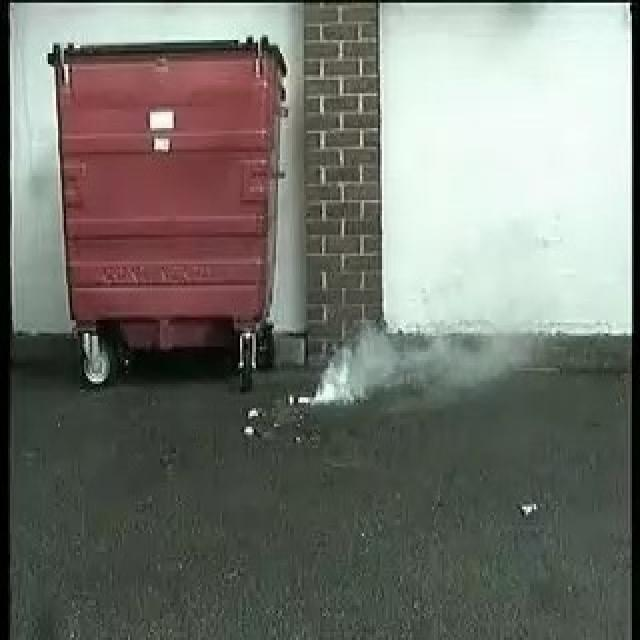smoke: (302, 318, 448, 410)
